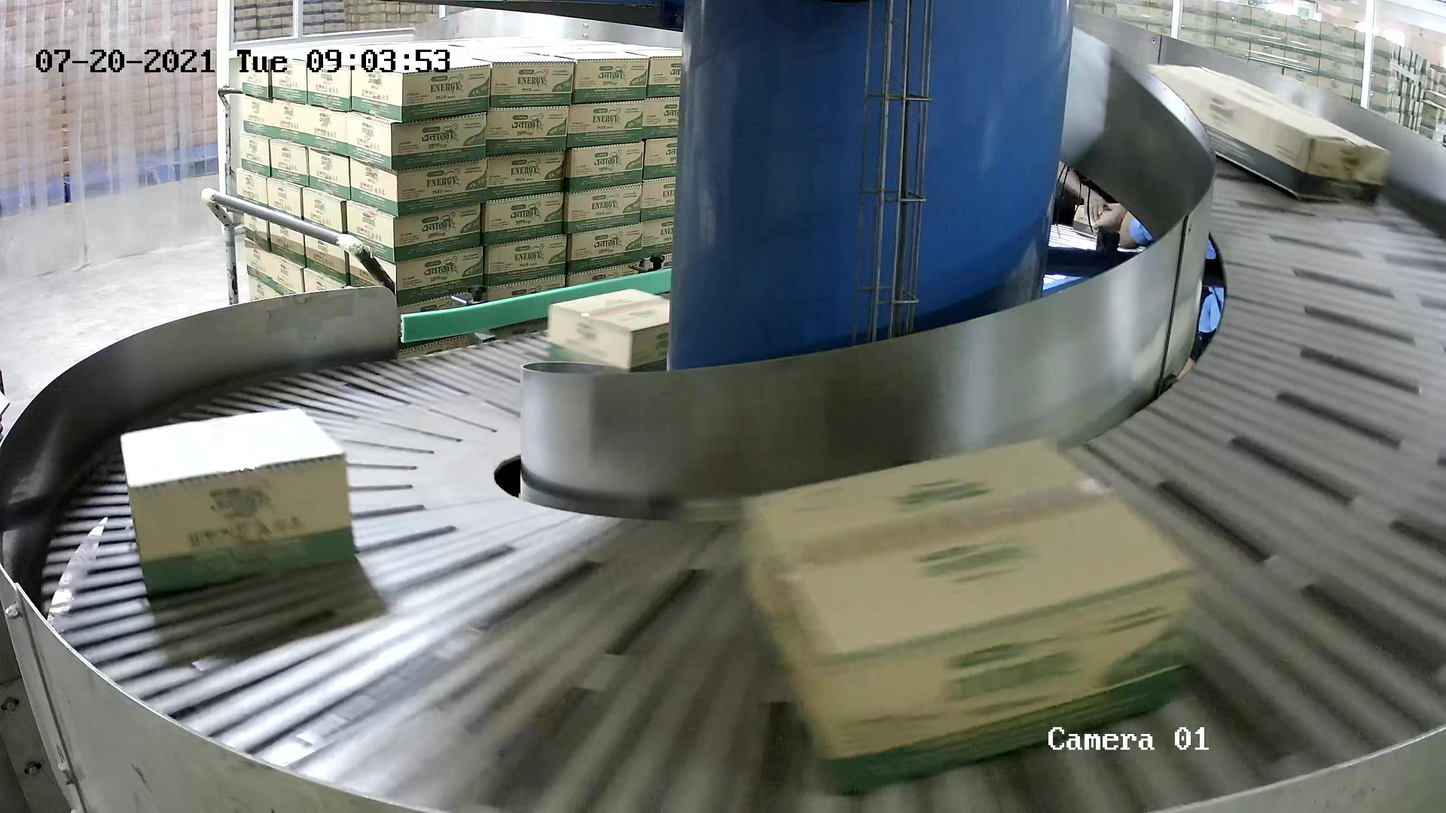Box: (736, 435, 1201, 802), (120, 408, 357, 598), (1137, 63, 1394, 210), (547, 285, 699, 389)
